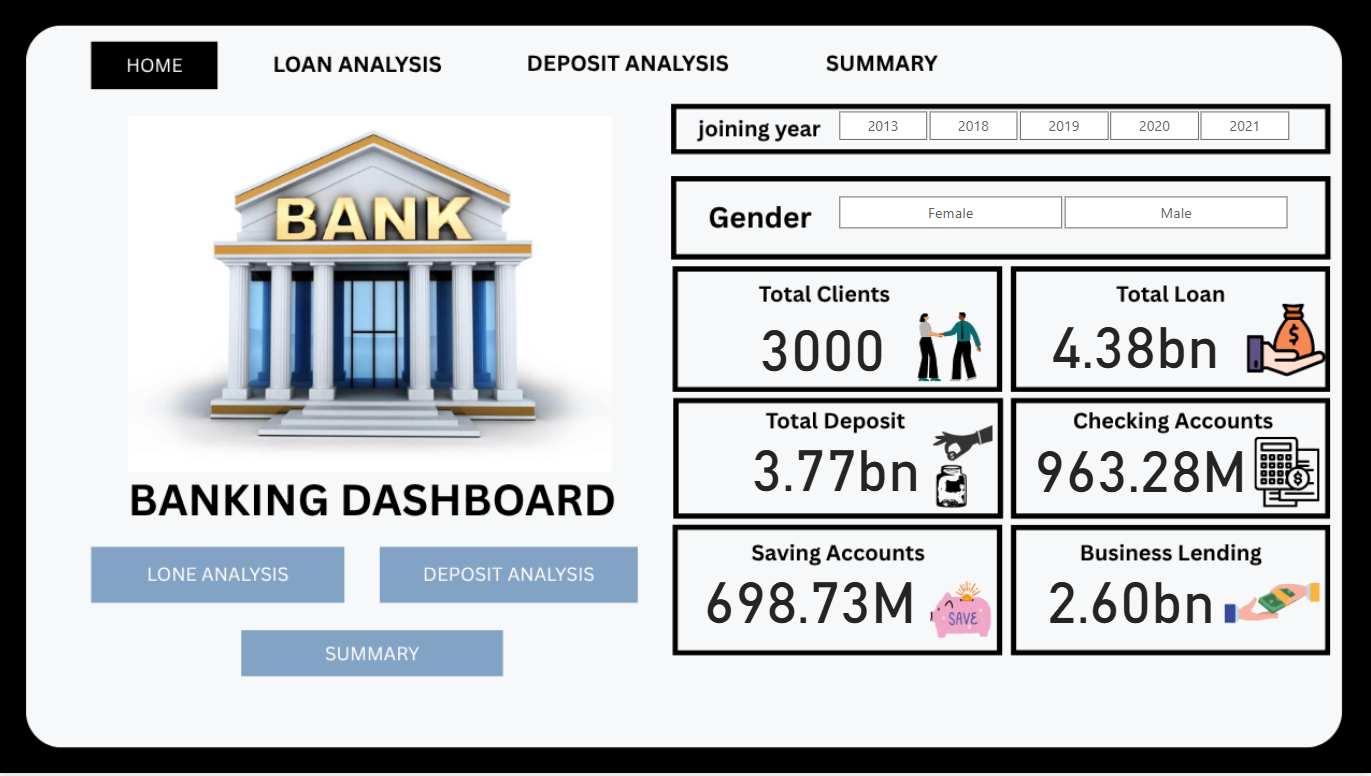

The page's visual inventory and layout, read from the dashboard file:
{"tool":"powerbi","page":{"name":"Home","canvas":[1280,720],"ordinal":0},"visuals":[{"type":"card","fields":{"Values":["CountNonNull(banking_case customer.Name)"]},"box":[629.5,293.3,279.8,74.8],"z":0},{"type":"slicer","fields":{"Values":["banking_case customer.GenderId"]},"box":[758.3,175.5,467.5,44.2],"z":1},{"type":"card","fields":{"Values":["banking_case customer.Total loans"]},"box":[883.7,293.7,352.7,65.9],"z":2},{"type":"card","fields":{"Values":["banking_case customer.Total deposite"]},"box":[655.2,404.9,254,74.8],"z":3},{"type":"slicer","fields":{"Values":["banking_case customer.Year of joining"]},"box":[758.3,96.9,468.7,38],"z":4},{"type":"card","fields":{"Values":["Sum(banking_case customer.Business Lending)"]},"box":[968.8,528.3,174.3,72.7],"z":5},{"type":"card","fields":{"Values":["Sum(banking_case customer.Saving Accounts)"]},"box":[629.8,528.3,253.9,74.1],"z":6},{"type":"card","fields":{"Values":["Sum(banking_case customer.Checking Accounts)"]},"box":[956.4,404.8,215.4,75.5],"z":7},{"type":"actionButton","box":[101.8,515.3,190.2,40.5],"z":8},{"type":"actionButton","box":[375.5,515.3,204.9,40.5],"z":9},{"type":"actionButton","box":[266.3,590.2,155.8,40.5],"z":10},{"type":"actionButton","box":[244.3,41.2,178.4,39.8],"z":11},{"type":"actionButton","box":[480.3,41.2,219.6,39.8],"z":12},{"type":"actionButton","box":[757.5,41.2,137.2,39.8],"z":13}]}

Visuals, with their boxes in screenshot pixels (x1, y1, x2, y2), scaled from the page's 1280x720 canvas onto the 1371x776 screenshot:
card - CountNonNull(banking_case customer.Name): x1=674 y1=316 x2=974 y2=397
slicer - banking_case customer.GenderId: x1=812 y1=189 x2=1313 y2=237
card - banking_case customer.Total loans: x1=947 y1=317 x2=1324 y2=388
card - banking_case customer.Total deposite: x1=702 y1=436 x2=974 y2=517
slicer - banking_case customer.Year of joining: x1=812 y1=104 x2=1314 y2=145
card - Sum(banking_case customer.Business Lending): x1=1038 y1=569 x2=1224 y2=648
card - Sum(banking_case customer.Saving Accounts): x1=675 y1=569 x2=947 y2=649
card - Sum(banking_case customer.Checking Accounts): x1=1024 y1=436 x2=1255 y2=518
actionButton: x1=109 y1=555 x2=313 y2=599
actionButton: x1=402 y1=555 x2=622 y2=599
actionButton: x1=285 y1=636 x2=452 y2=680
actionButton: x1=262 y1=44 x2=453 y2=87
actionButton: x1=514 y1=44 x2=750 y2=87
actionButton: x1=811 y1=44 x2=958 y2=87
